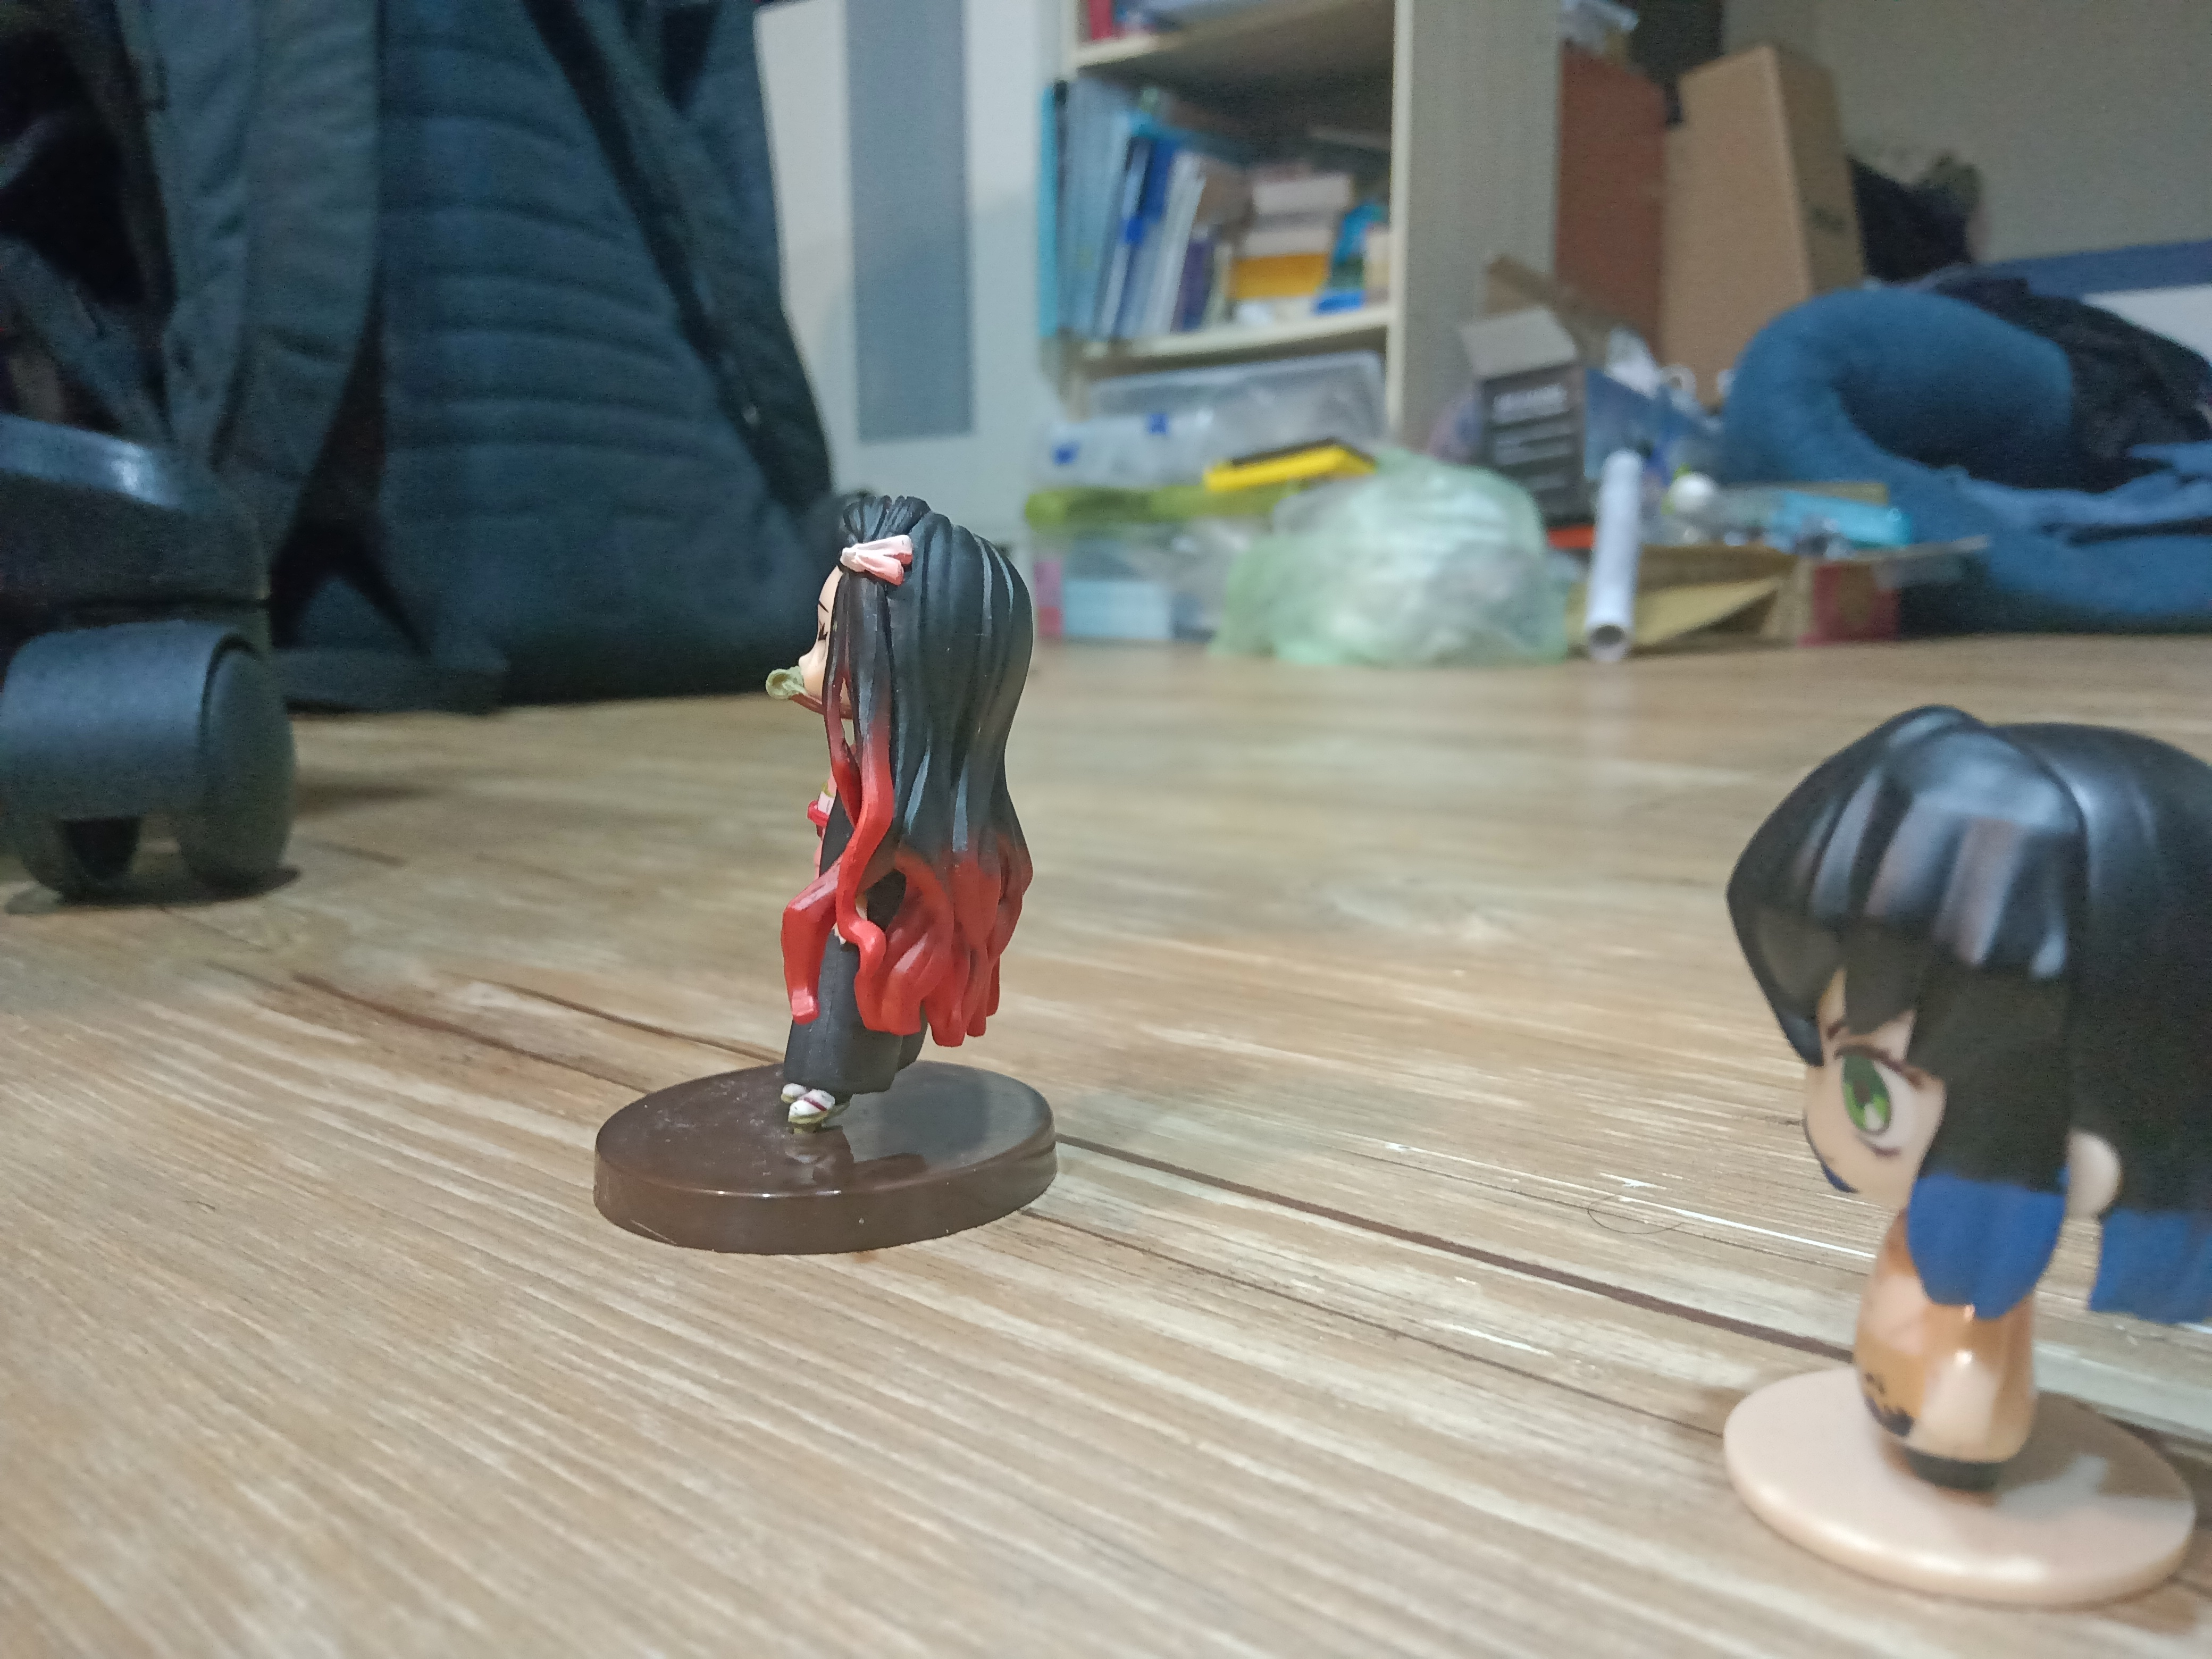Inosuke: (1691, 671, 2210, 1614)
Nezuko: (578, 481, 1106, 1284)
